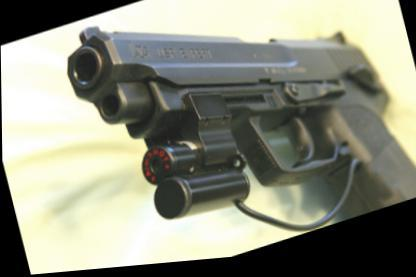pistol: (55, 0, 415, 272)
